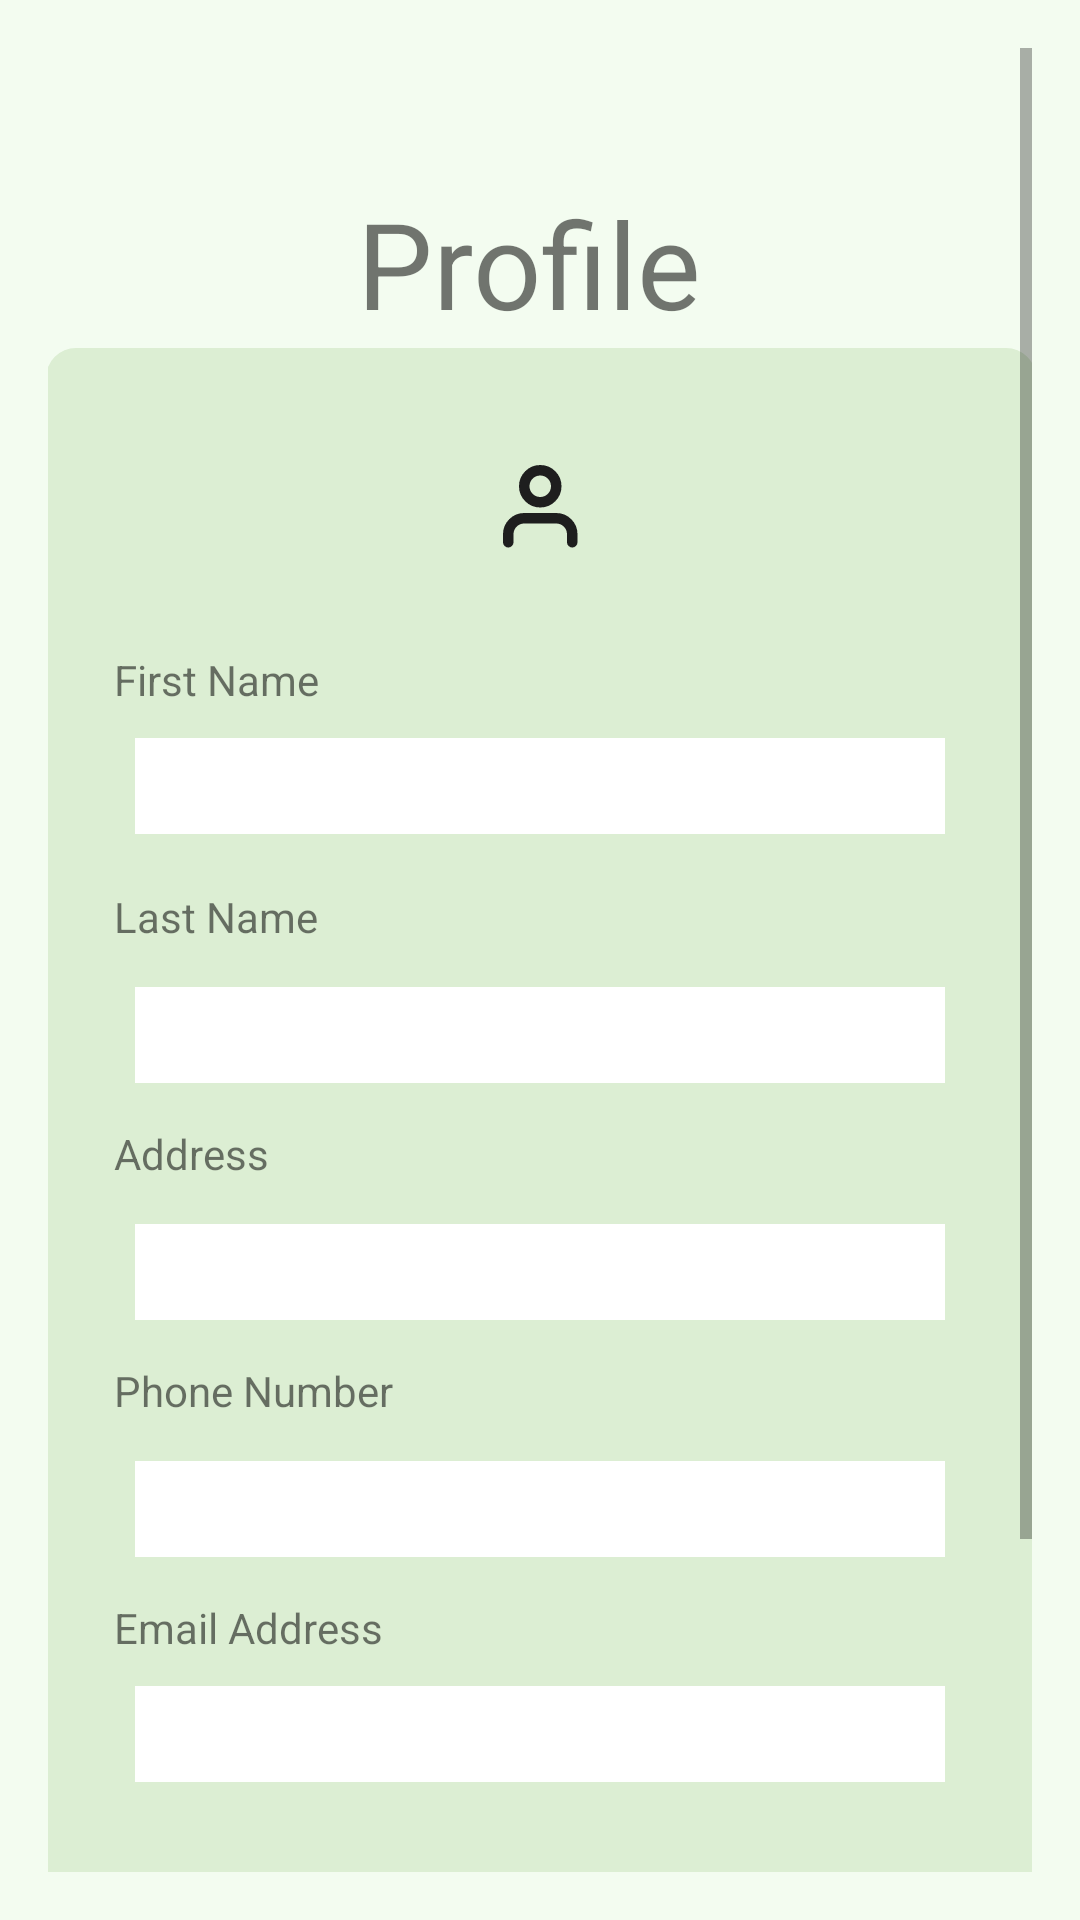

Named icons in this screenshot (1080*1920) and their bounding boxes, {"left": x1, "top": y1, "right": x2, "bottom": y2}:
person: {"left": 503, "top": 465, "right": 578, "bottom": 548}
